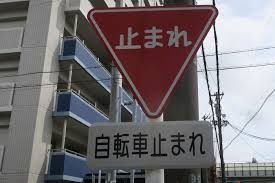Regulatory_sign_triangle: (84, 5, 231, 129)
